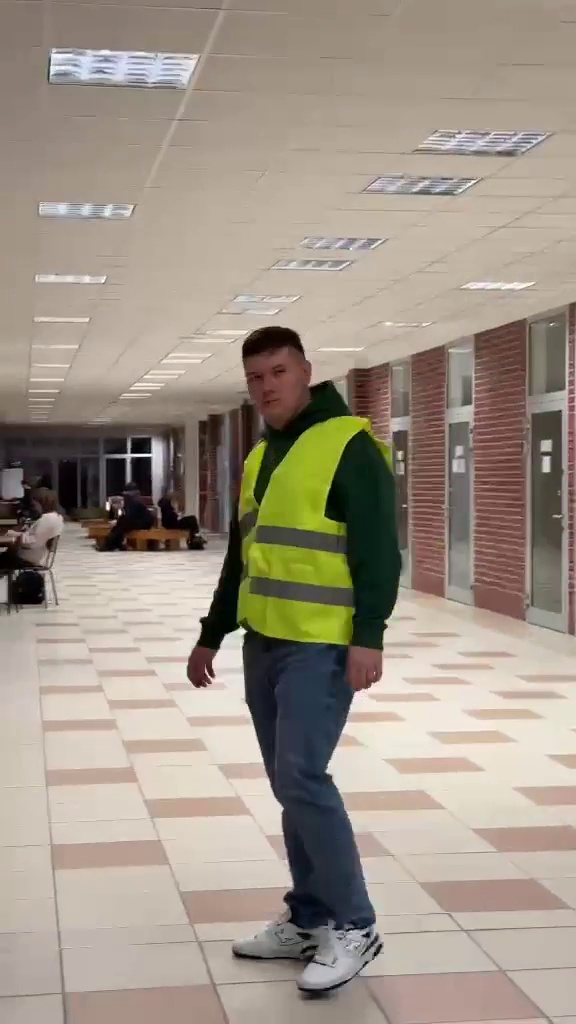vest: (207, 315, 410, 985)
